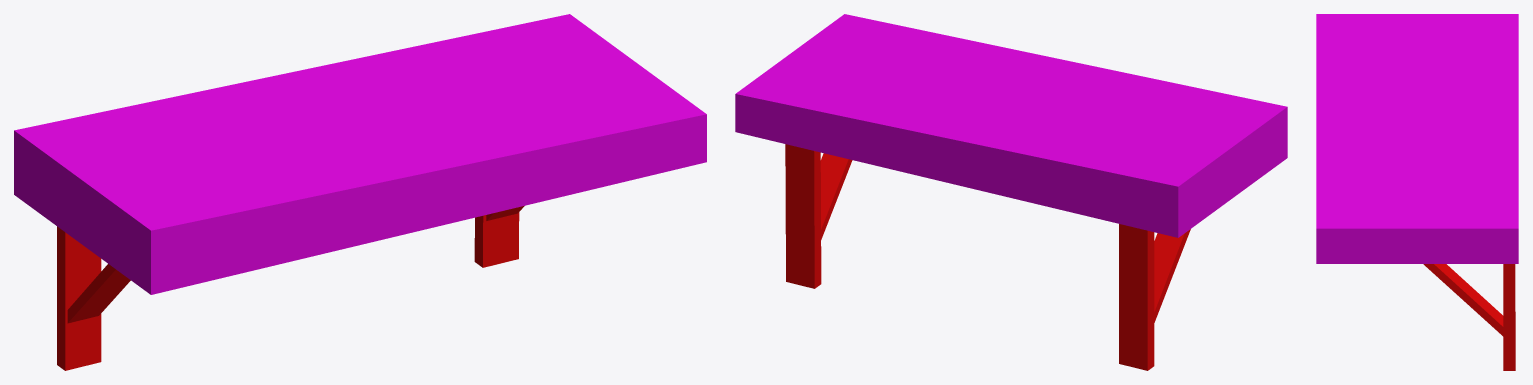
Rendered from shelf.fbx.
The picture shows the model from 3 angles, left to right: view 1: azimuth 30°, elevation 25°; view 2: azimuth 150°, elevation 25°; view 3: azimuth 270°, elevation 25°; orthographic projection. The views are drawn at different scales.
Visible parts, largest first — view 1: Shelf; view 2: Shelf; view 3: Shelf.
Boxes of the visible parts, <box> form: Shelf: <box>14,14,706,370</box>; Shelf: <box>735,14,1287,370</box>; Shelf: <box>1316,14,1518,370</box>.
Size of the model in its own units: 85.28 by 35.6 by 36.41.
